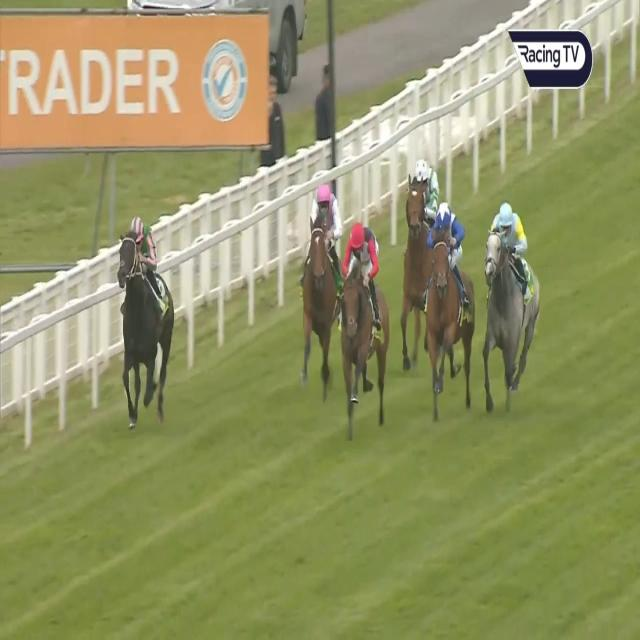horses-racing: (485, 197, 538, 402), (120, 216, 174, 410), (335, 222, 385, 412), (424, 198, 465, 403), (305, 185, 343, 368), (403, 153, 438, 333)
